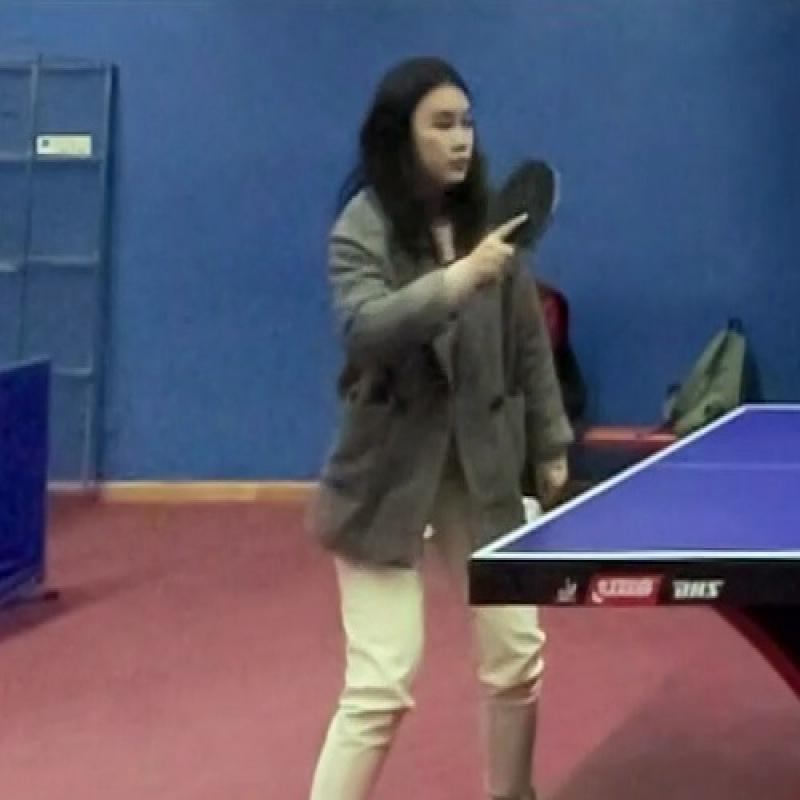bats: (486, 153, 583, 265)
